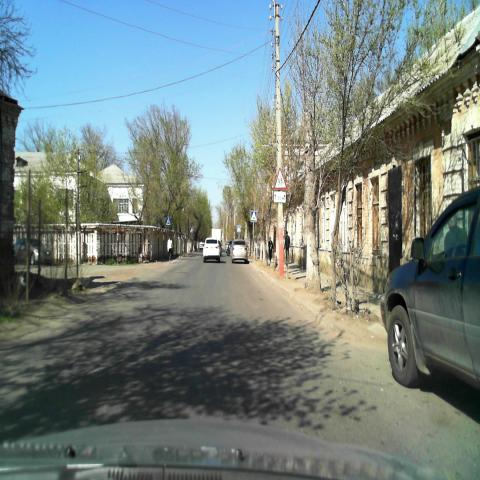1_23: (273, 167, 286, 190)
